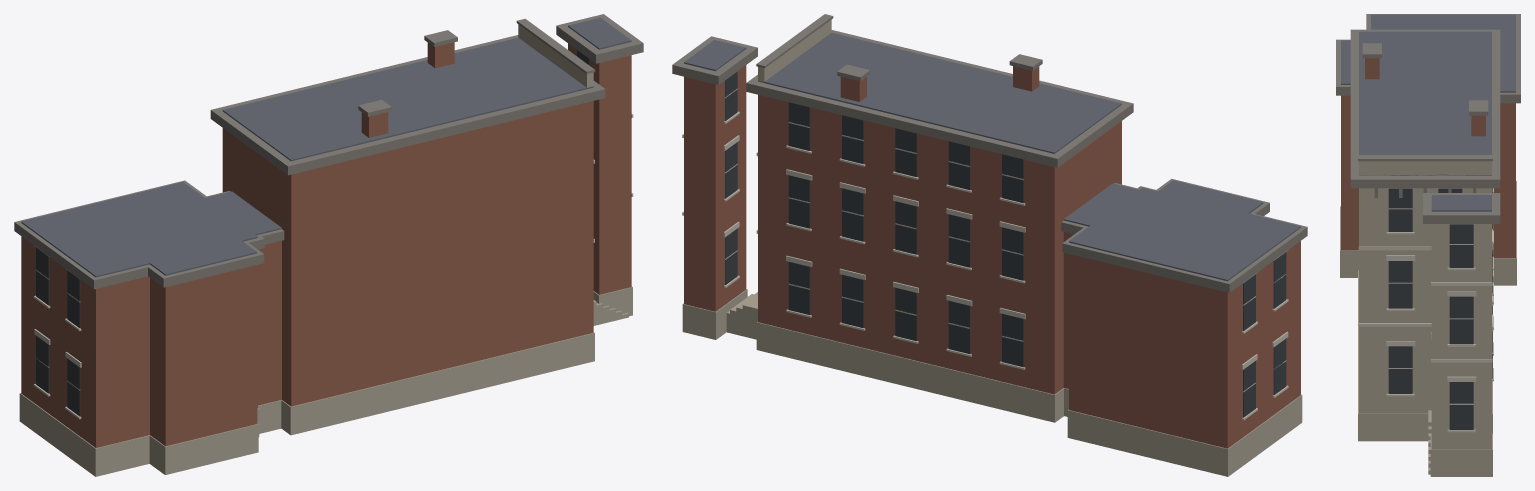
Rendered from stone_house_2035_prairie__draft_1904.glb.
3 renders of one model, left to right at view 1: azimuth 30°, elevation 25°; view 2: azimuth 150°, elevation 25°; view 3: azimuth 270°, elevation 25°, orthographic. The views are drawn at different scales.
Parts seen in each view (by area): view 1: stone_house_2035_prairie__draft_1904; view 2: stone_house_2035_prairie__draft_1904; view 3: stone_house_2035_prairie__draft_1904.
Boxes of the visible parts, <box> form: stone_house_2035_prairie__draft_1904: <box>14,14,643,476</box>; stone_house_2035_prairie__draft_1904: <box>672,14,1307,476</box>; stone_house_2035_prairie__draft_1904: <box>1336,14,1520,476</box>.
Bounding box in the file's own units: 26.8 × 13.34 × 7.65.
